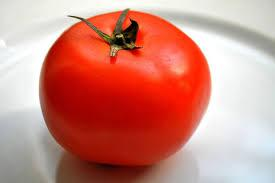tomato: (38, 15, 202, 169)
